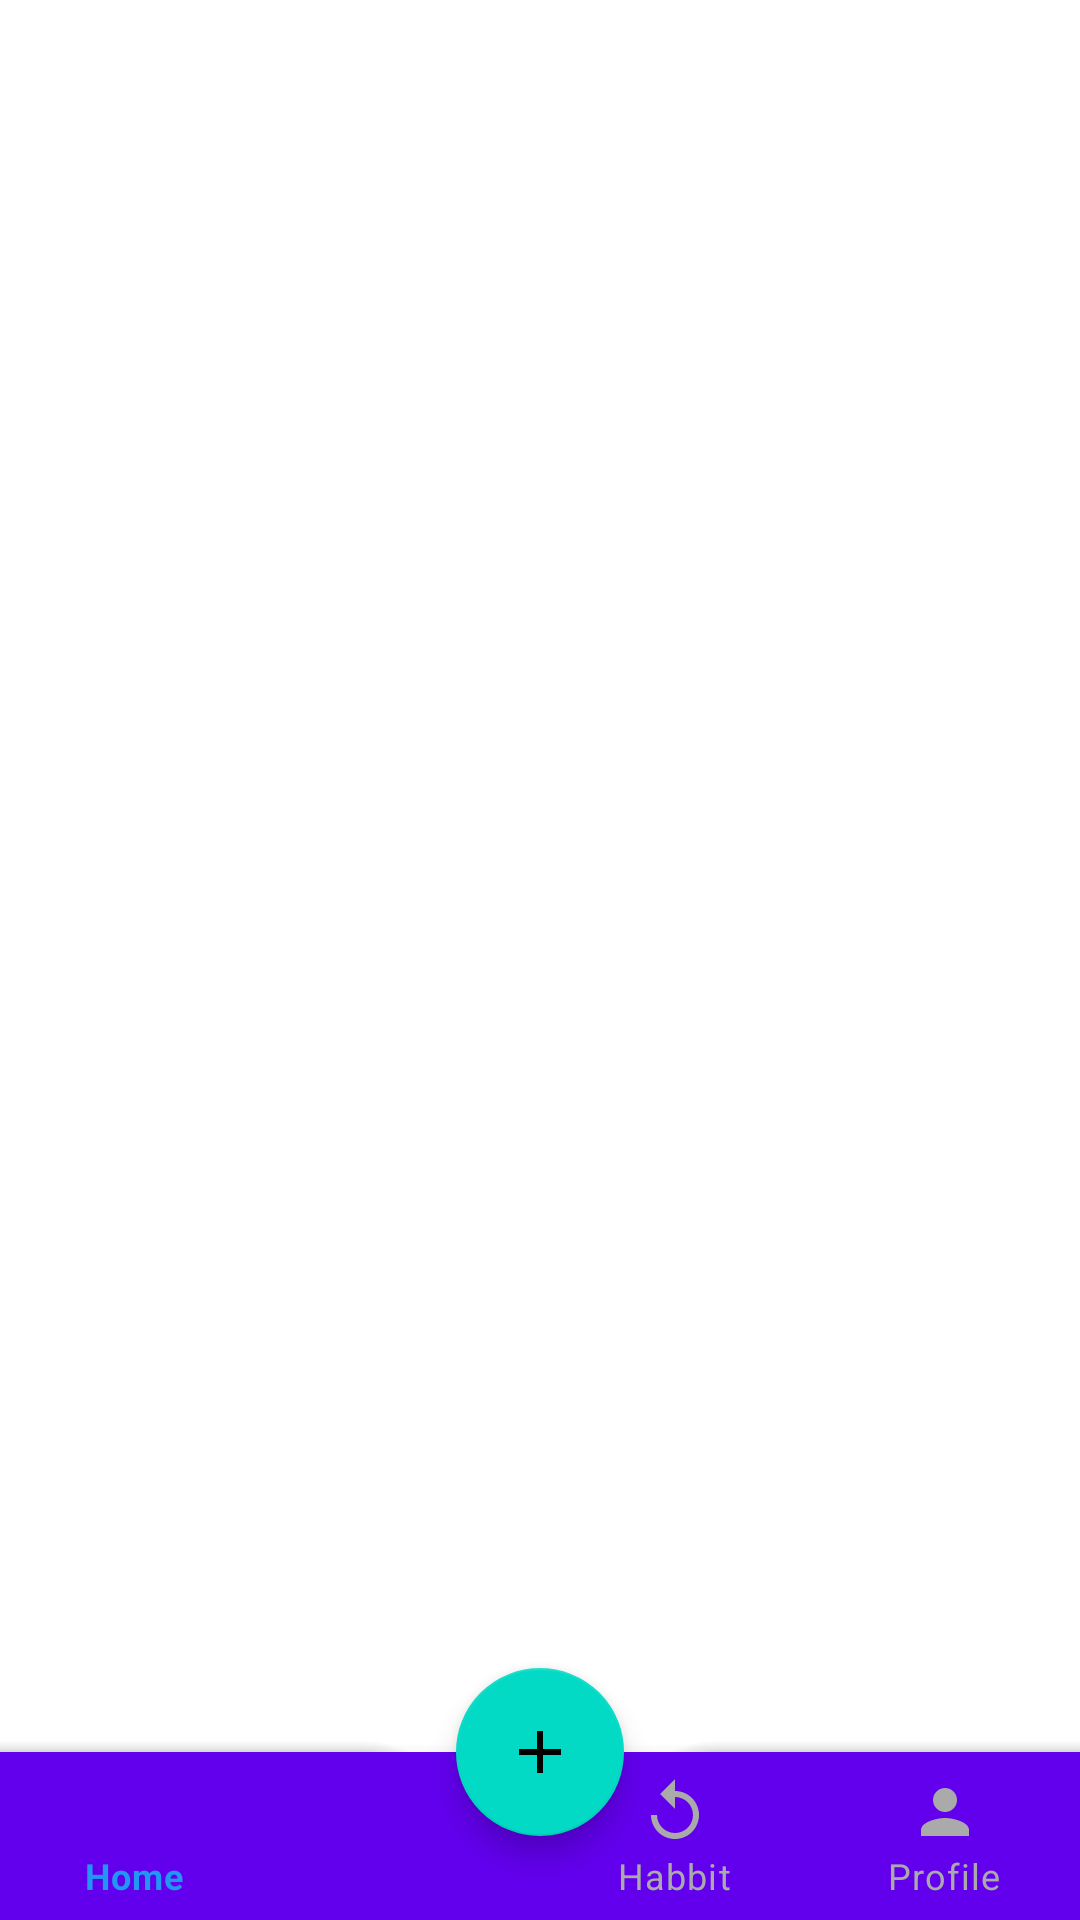

Icons on this 1080 x 1920 Android screen, each with the point to tap as point (x, y):
add: point (540, 1752)
